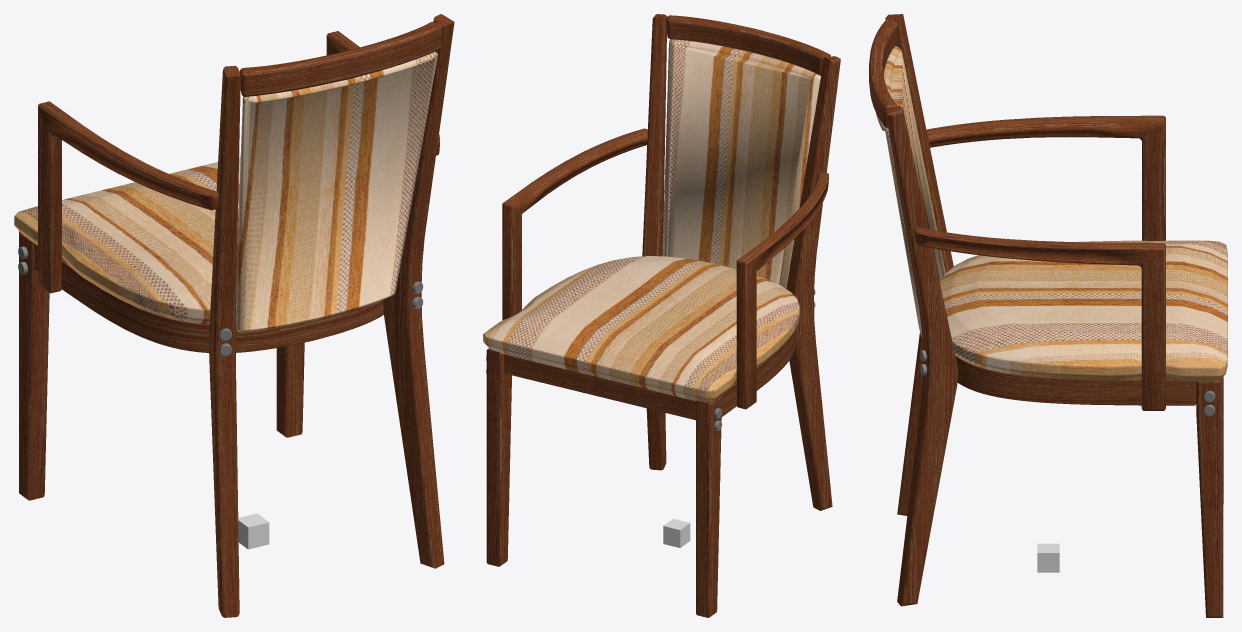
3 views of the same model, side by side, from view 1: azimuth 30°, elevation 25°; view 2: azimuth 150°, elevation 25°; view 3: azimuth 270°, elevation 25° (orthographic). The views are drawn at different scales.
Parts seen in each view (by area): view 1: Chair_03, Object002, Object001, Object003, Cube; view 2: Chair_03, Object002, Object001, Object003, Cube; view 3: Object001, Chair_03, Object003, Object002, Cube.
Boxes of the visible parts, x1,y1,x2,y2 form: Chair_03: (18,14,454,617); Object002: (236,51,437,332); Object001: (14,156,240,324); Object003: (38,31,439,293); Cube: (238,513,269,549); Chair_03: (486,14,840,617); Object002: (662,39,820,288); Object001: (483,256,799,402); Object003: (502,128,828,409); Cube: (663,519,690,547); Object001: (939,240,1227,381); Chair_03: (869,14,1223,617); Object003: (914,115,1172,410); Object002: (875,46,945,338); Cube: (1037,543,1059,572).
Bounding box in the file's own units: 28.64 × 50.74 × 32.57.
4 materials, 2 textured.
